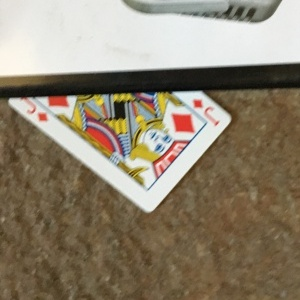card: (7, 86, 232, 214)
